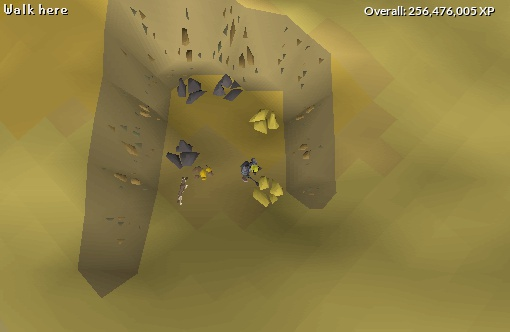depleted: (164, 139, 202, 168), (173, 75, 207, 106), (209, 74, 245, 101)
gold: (247, 174, 289, 208), (250, 105, 280, 135)
